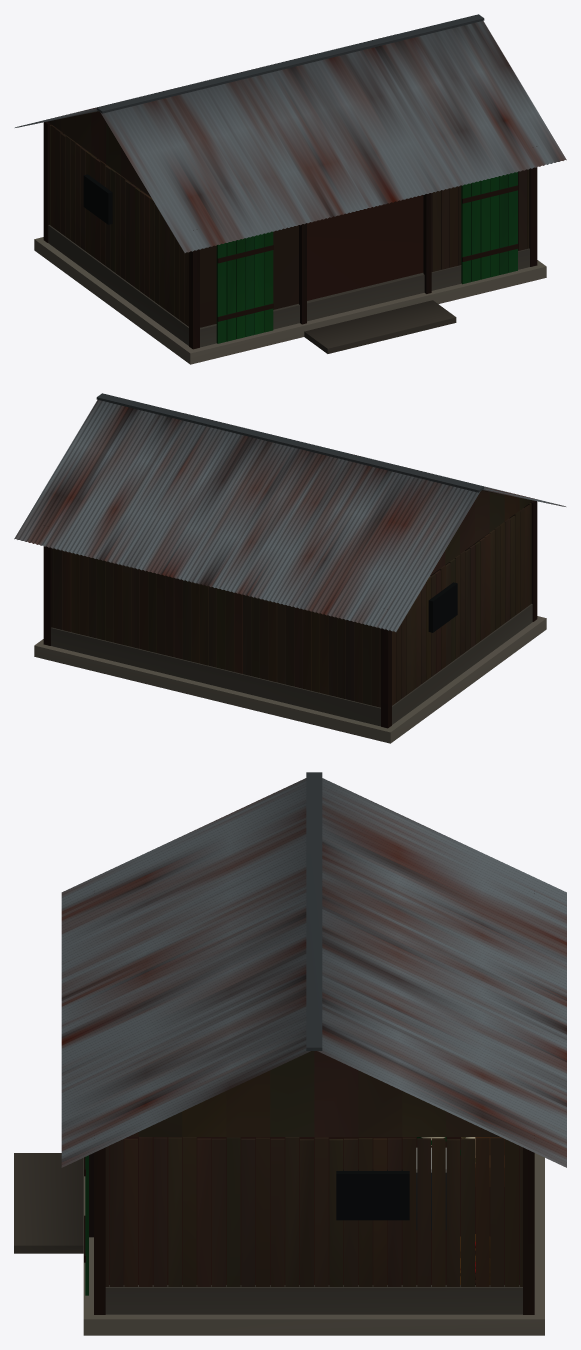
File: fm_barn.glb
The picture shows the model from 3 angles, top to bottom: view 1: azimuth 30°, elevation 25°; view 2: azimuth 150°, elevation 25°; view 3: azimuth 270°, elevation 25°; orthographic projection. The views are drawn at different scales.
Visible parts, largest first — view 1: fm_barn; view 2: fm_barn; view 3: fm_barn.
Boxes of the visible parts, <box> form: fm_barn: <box>15,14,566,364</box>; fm_barn: <box>14,393,565,743</box>; fm_barn: <box>14,772,566,1335</box>.
Size of the model in its own units: 8.9 by 4.5 by 7.55.
